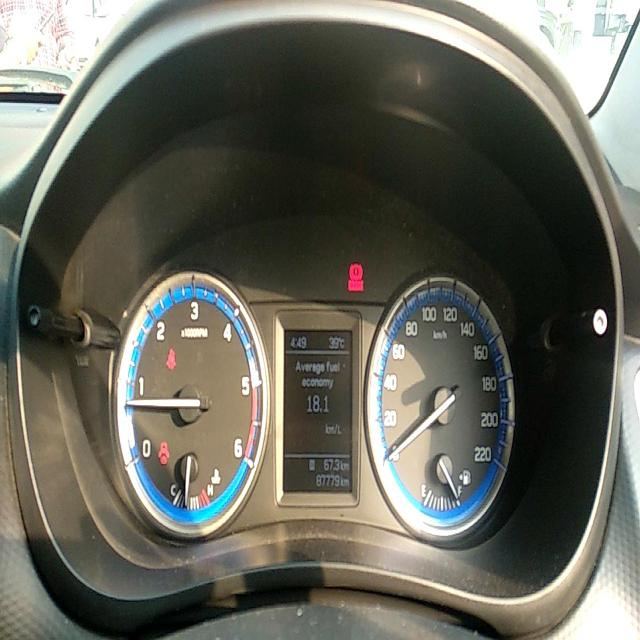odometer: (314, 471, 340, 490)
